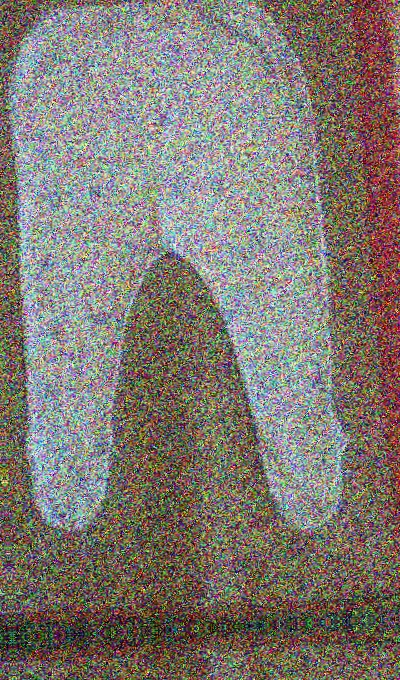Pants: (0, 0, 357, 543)
